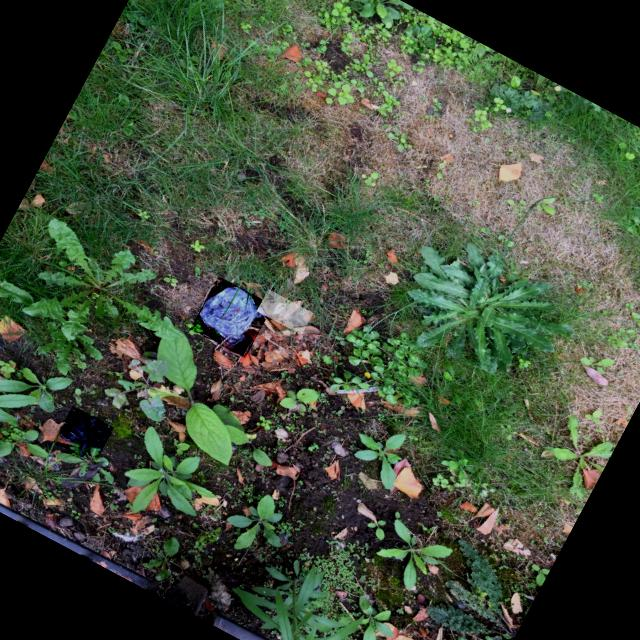Plastic film: (198, 286, 266, 350), (58, 419, 106, 457), (260, 302, 308, 327)
